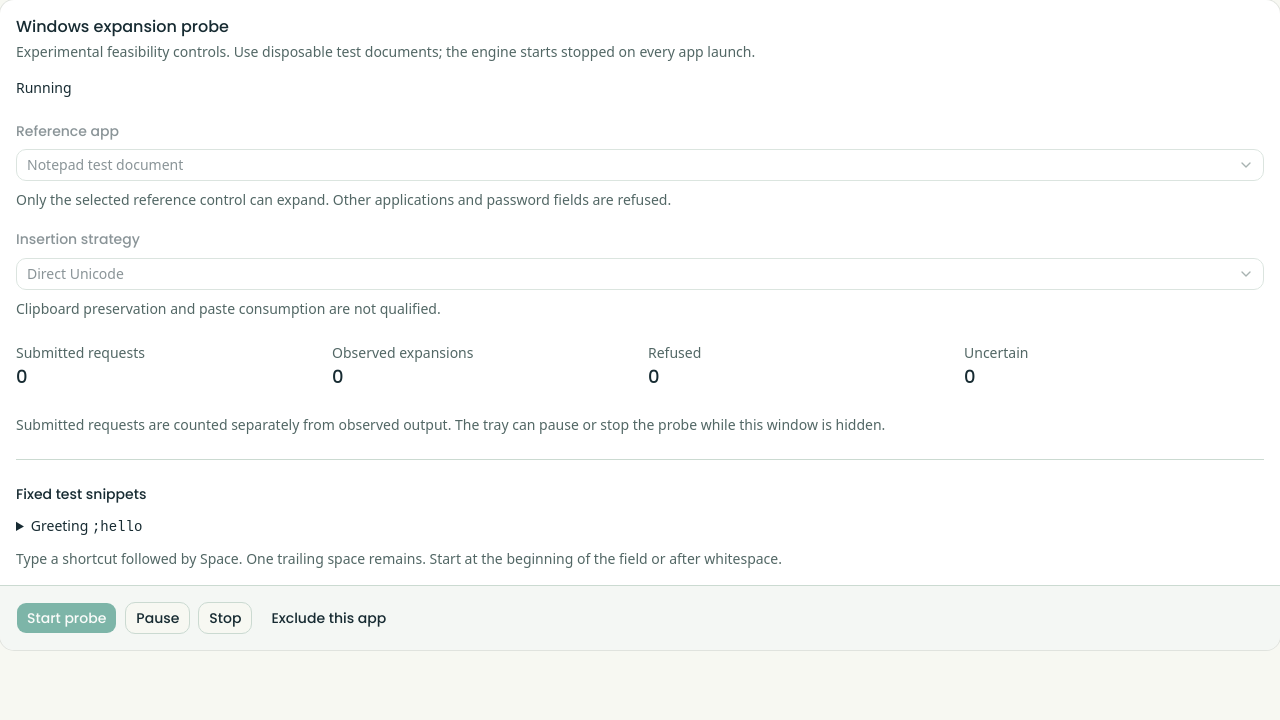
Test: probe panel › uses native Pause and exclusion transitions and fixed refusal labels
The image size is (1280, 720).
Expected: the heading "Greeting ;hello" is shown, [31,516,142,534]
What coordinates should you click on to do the following:
click the button "Pause"
I would click on:
 (158, 618)
Its box is [125,602,190,634].
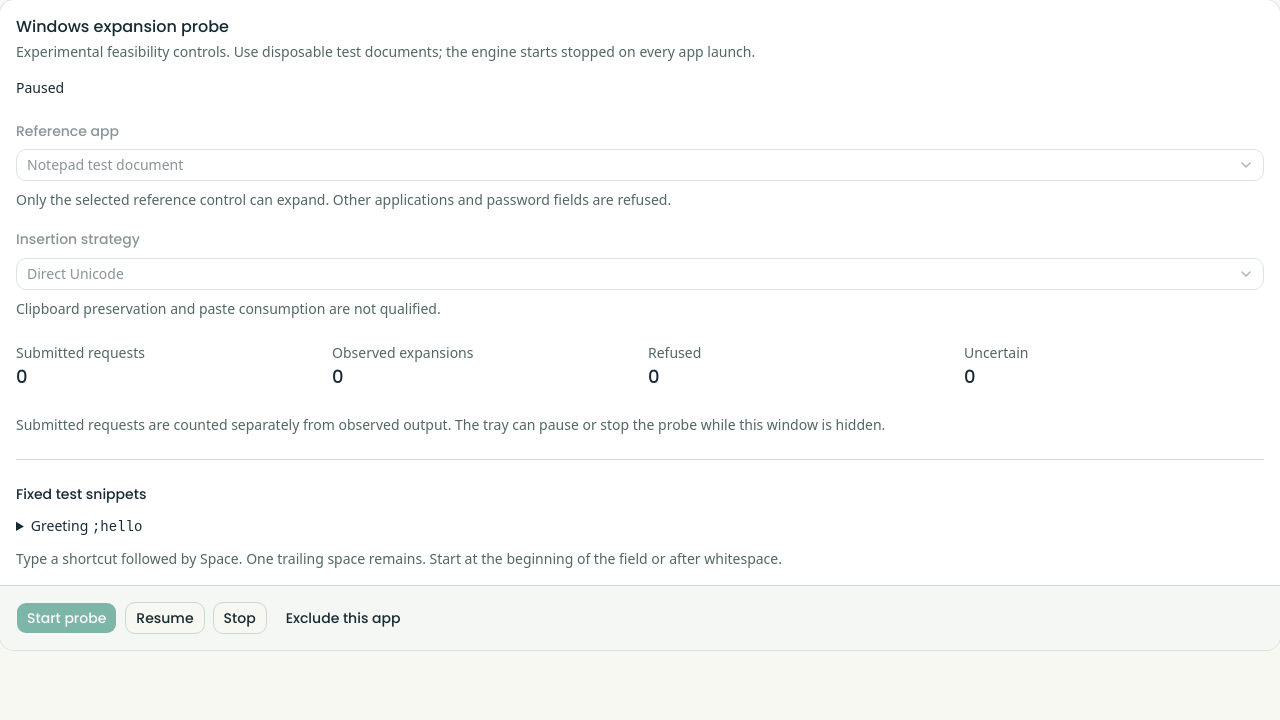
Result: the message named "Expansion status" reads "Paused" at [16,78,64,97]
What coordinates should you click on to do the following:
click the button "Exclude this app"
I would click on:
 (343, 618)
Its box is [275,602,412,634].
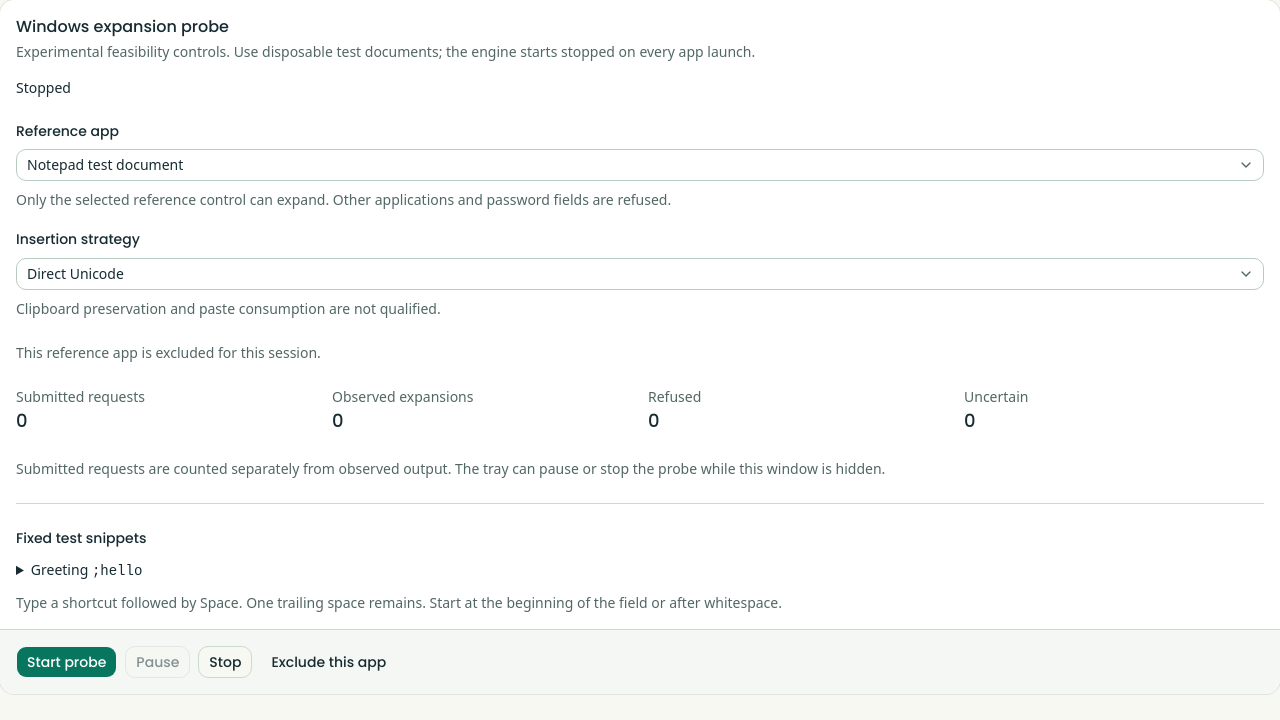
Result: the text "This reference app is excluded for this session." is shown at [16,342,321,362]
